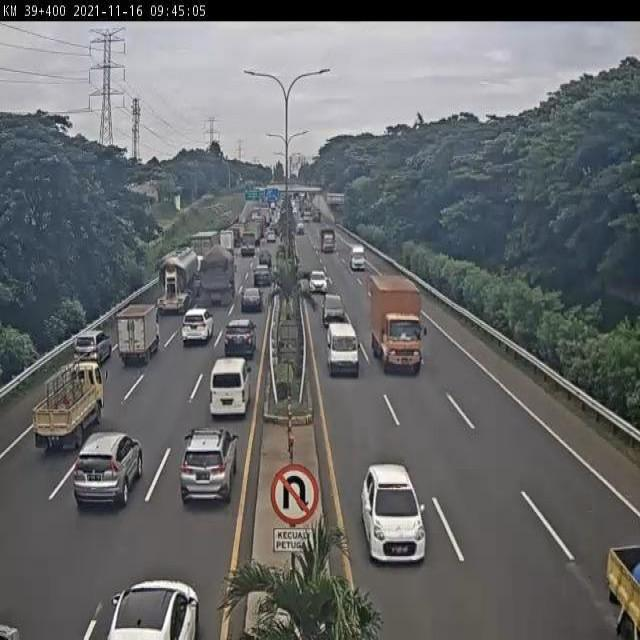car: (360, 464, 426, 563), (180, 430, 238, 510), (73, 437, 142, 503), (326, 320, 359, 375), (73, 331, 112, 367), (224, 319, 256, 356), (182, 310, 214, 346), (322, 292, 343, 325), (241, 285, 263, 315), (309, 268, 327, 292), (252, 265, 271, 287)
truck: (563, 536, 640, 640), (35, 363, 104, 456), (369, 272, 423, 375), (156, 244, 201, 315), (204, 358, 247, 418), (117, 304, 159, 365), (196, 248, 236, 309), (190, 229, 222, 279)
